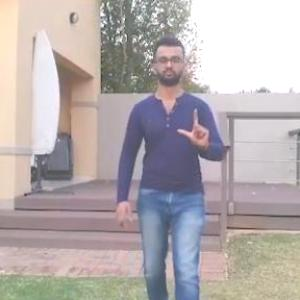land_hand: (172, 96, 214, 150)
